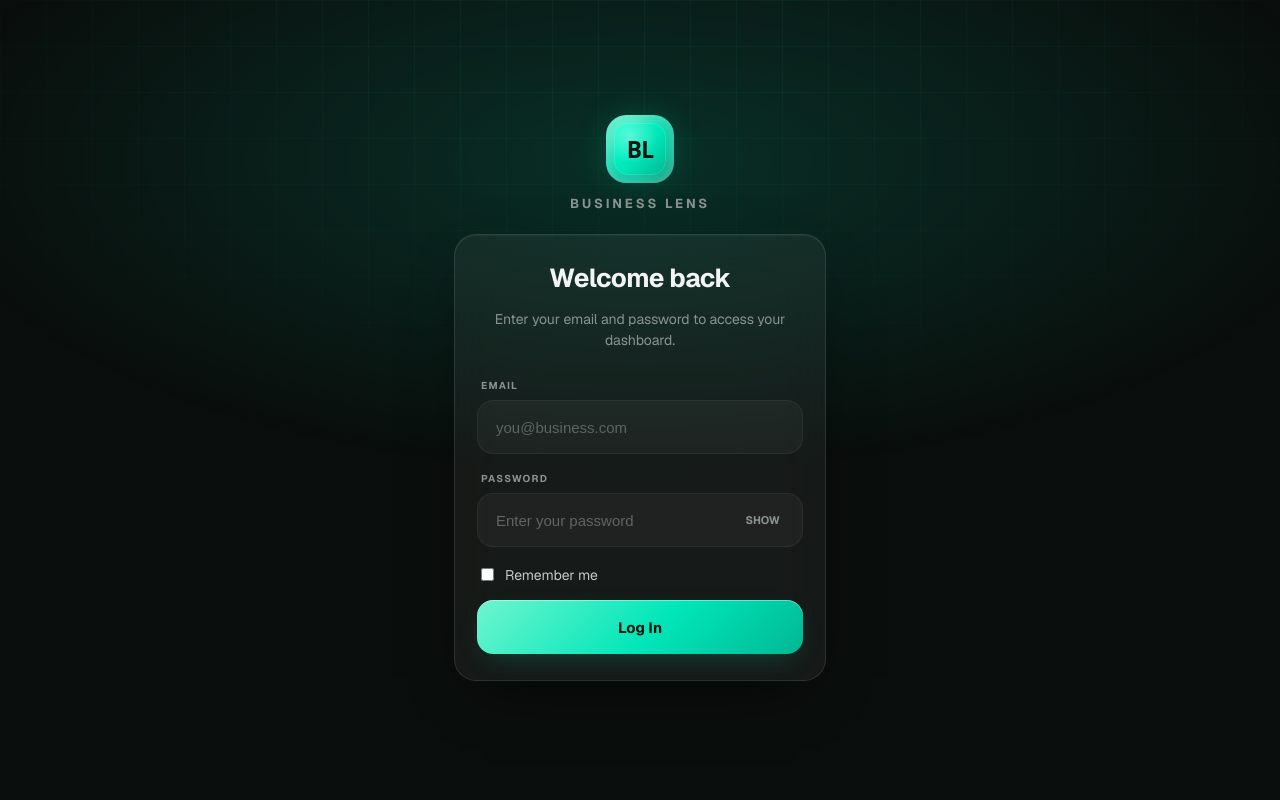
Test: Login › shows an error on failed login
Type "x@example.com" into the field labelled "Email". click: (640, 427)
box: 494,401 -> 786,453
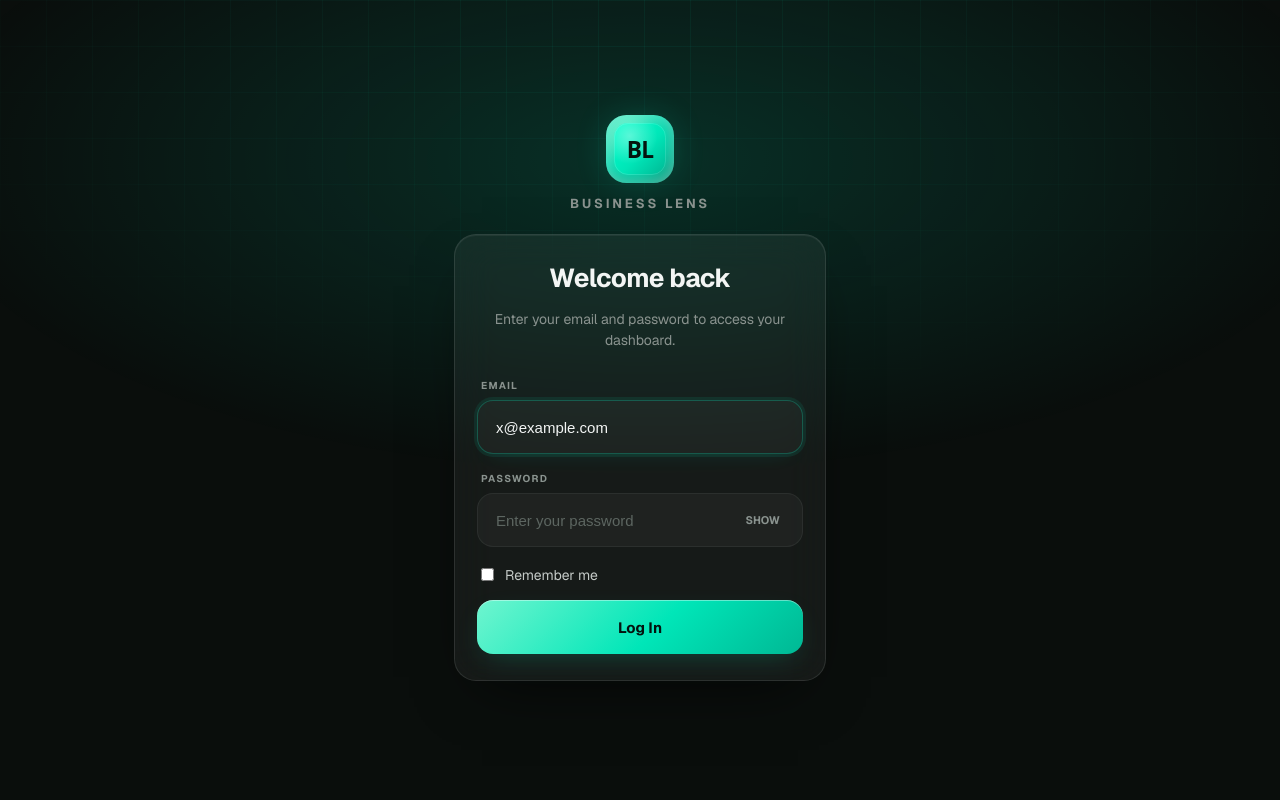
Type "wrong" into the password field labelled "Password". click: (612, 520)
box: 494,494 -> 730,546
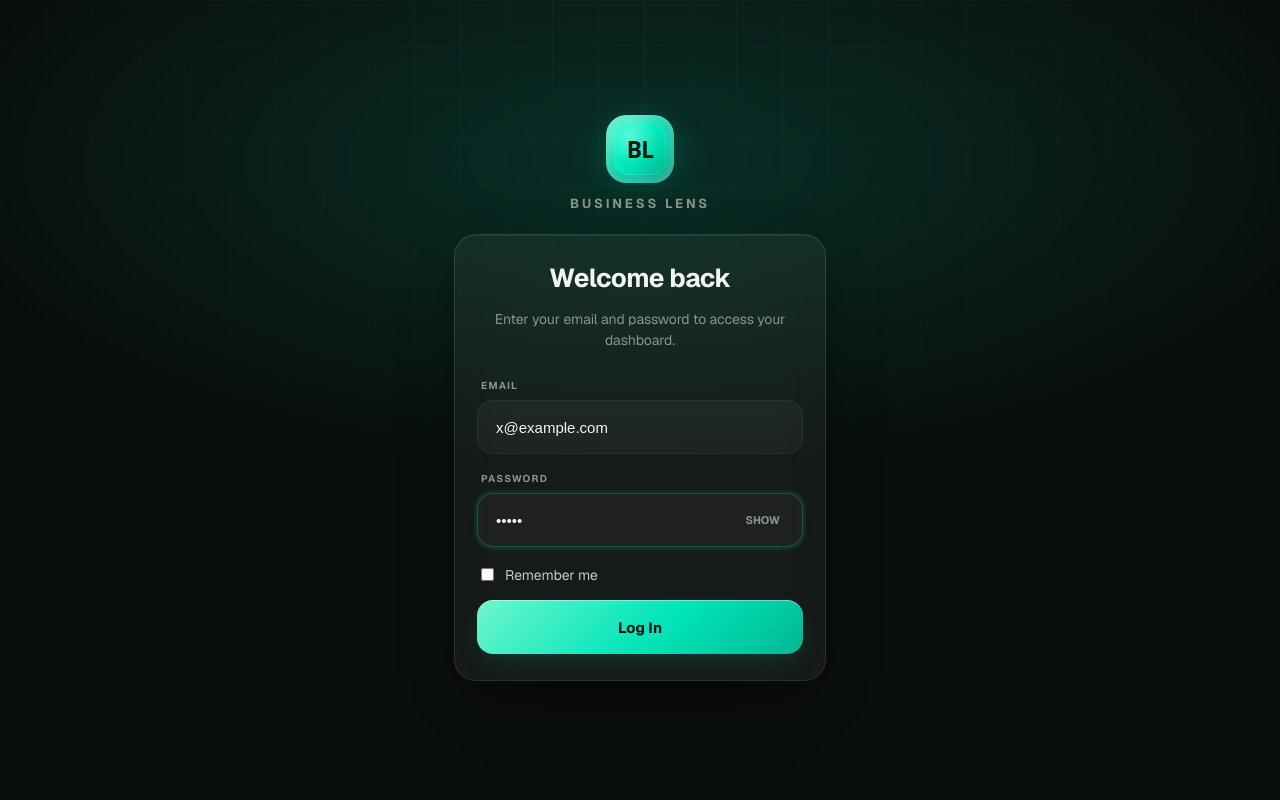
Click the button "Log In". click: (640, 627)
box: 477,600 -> 803,654
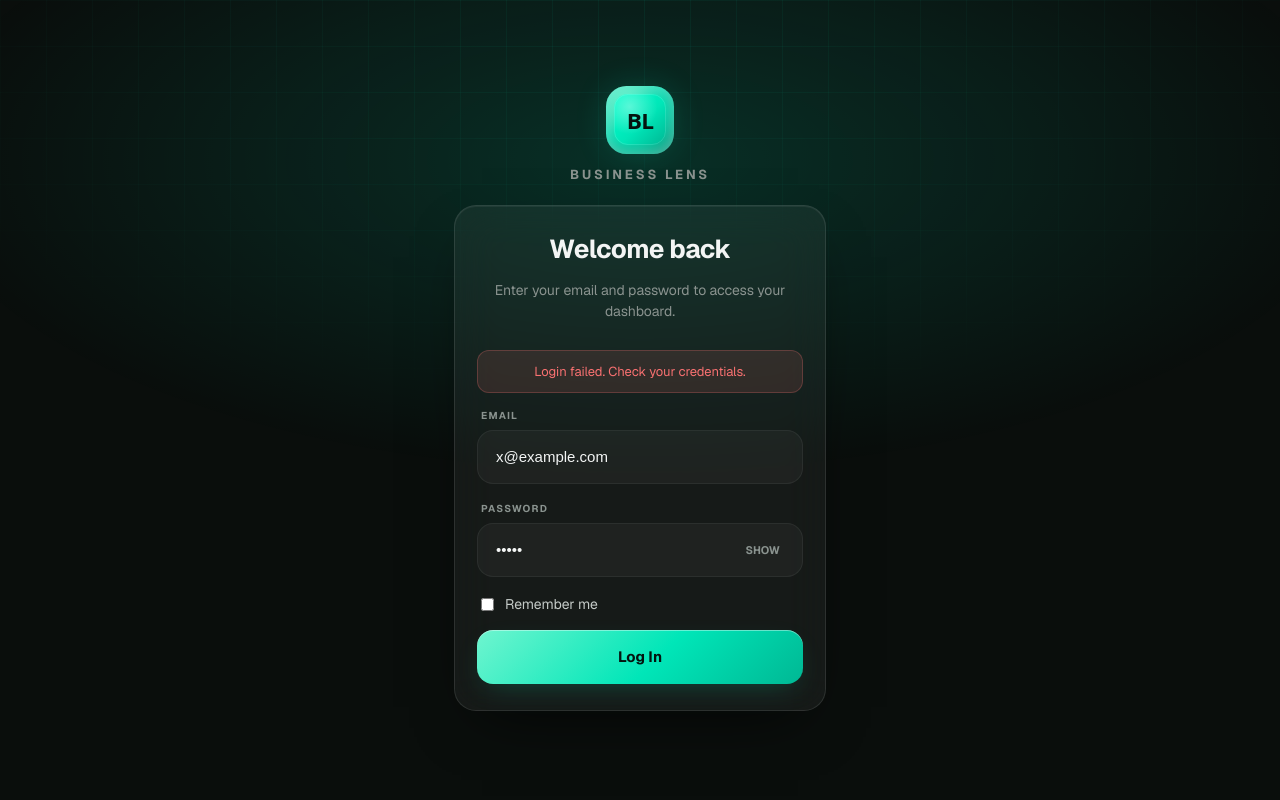
Expected: the text "Login failed. Check your credentials." is shown, 477,350 -> 803,392
